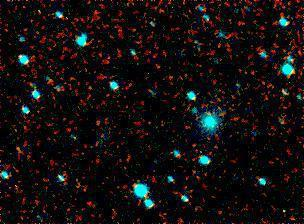star: (178, 130, 208, 160)
